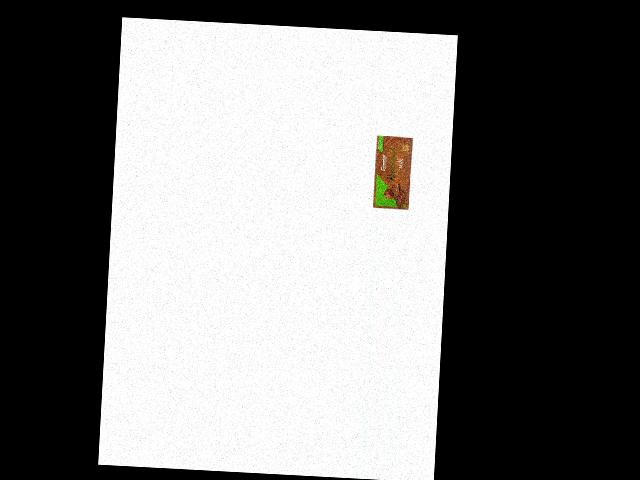chocolate: (371, 132, 416, 211)
